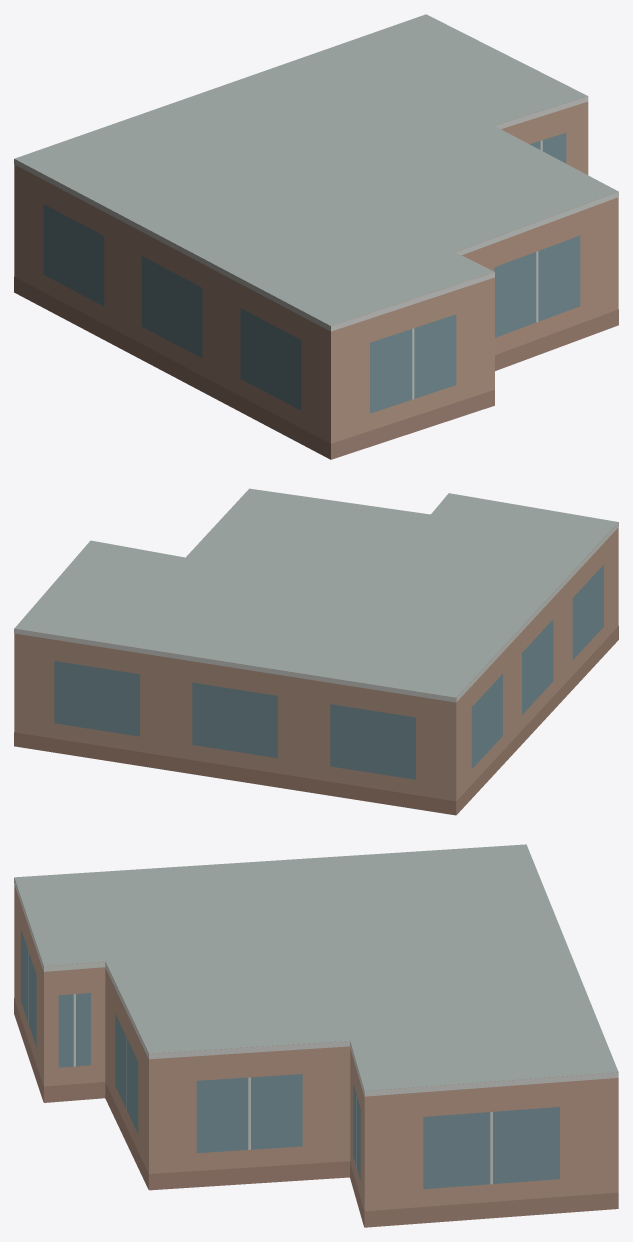
Rendered from survey-upis-32611265.glb.
3 views of the same model, one above another, from view 1: azimuth 30°, elevation 25°; view 2: azimuth 150°, elevation 25°; view 3: azimuth 270°, elevation 25° (orthographic). The views are drawn at different scales.
Visible parts, largest first — view 1: survey-upis-32611265.tmp; view 2: survey-upis-32611265.tmp; view 3: survey-upis-32611265.tmp.
Part boxes in pixels (x1,y1,x2,y2): survey-upis-32611265.tmp: (14, 14, 618, 459); survey-upis-32611265.tmp: (14, 488, 618, 815); survey-upis-32611265.tmp: (14, 844, 618, 1227).
Bounding box in the file's own units: 11.83 × 3.05 × 12.25.
